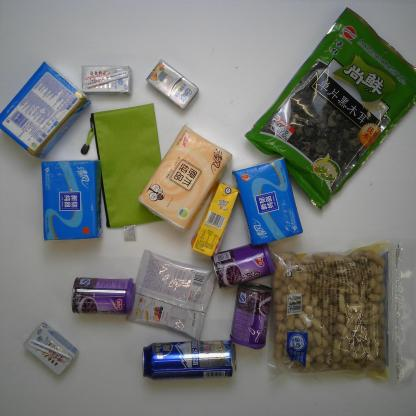Alcohol: (140, 333, 236, 382)
Canned Food: (207, 238, 278, 291), (228, 280, 274, 352), (70, 275, 137, 317)
Dried Food: (242, 4, 416, 215), (262, 234, 416, 393)
Drink: (191, 180, 240, 258)
Instant Drink: (123, 248, 218, 342)
Milk: (22, 320, 82, 378), (143, 57, 201, 112), (78, 62, 136, 99)
Stationery: (78, 102, 169, 244)
Tissue: (140, 126, 232, 232), (0, 59, 95, 160), (226, 152, 308, 252), (40, 157, 106, 243)
